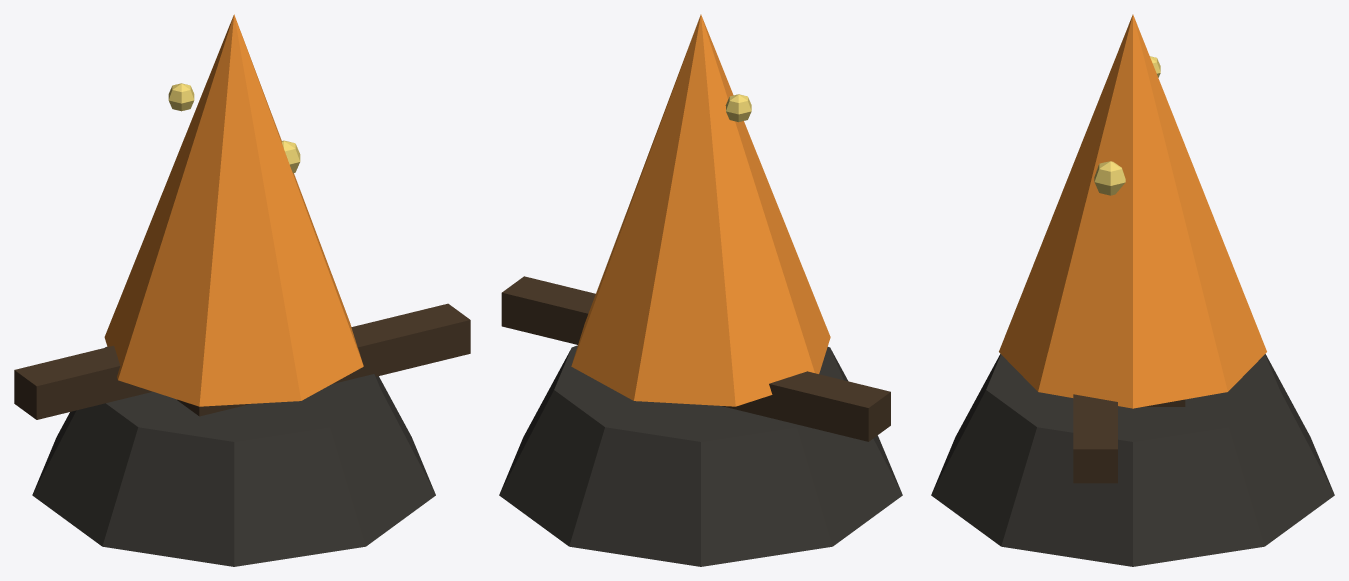
The model's file is bonfire.obj.
3 views of the same model, side by side, from view 1: azimuth 30°, elevation 25°; view 2: azimuth 150°, elevation 25°; view 3: azimuth 270°, elevation 25° (orthographic).
Parts seen in each view (by area): view 1: bonfire_stack, bonfire_flame, bonfire_logs, bonfire_spark_b; view 2: bonfire_flame, bonfire_stack, bonfire_logs, bonfire_spark_b; view 3: bonfire_flame, bonfire_stack, bonfire_logs, bonfire_spark_a.
Boxes of the visible parts, <box> form: bonfire_stack: <box>32,347,435,566</box>; bonfire_flame: <box>104,14,363,406</box>; bonfire_logs: <box>14,303,470,419</box>; bonfire_spark_b: <box>168,83,194,111</box>; bonfire_flame: <box>571,14,830,406</box>; bonfire_stack: <box>499,345,902,566</box>; bonfire_logs: <box>501,276,890,441</box>; bonfire_spark_b: <box>725,94,751,122</box>; bonfire_flame: <box>999,14,1266,408</box>; bonfire_stack: <box>931,354,1334,566</box>; bonfire_logs: <box>1073,394,1185,483</box>; bonfire_spark_a: <box>1094,161,1125,195</box>.
Bounding box in the file's own units: 1.24 × 1.38 × 1.08.
